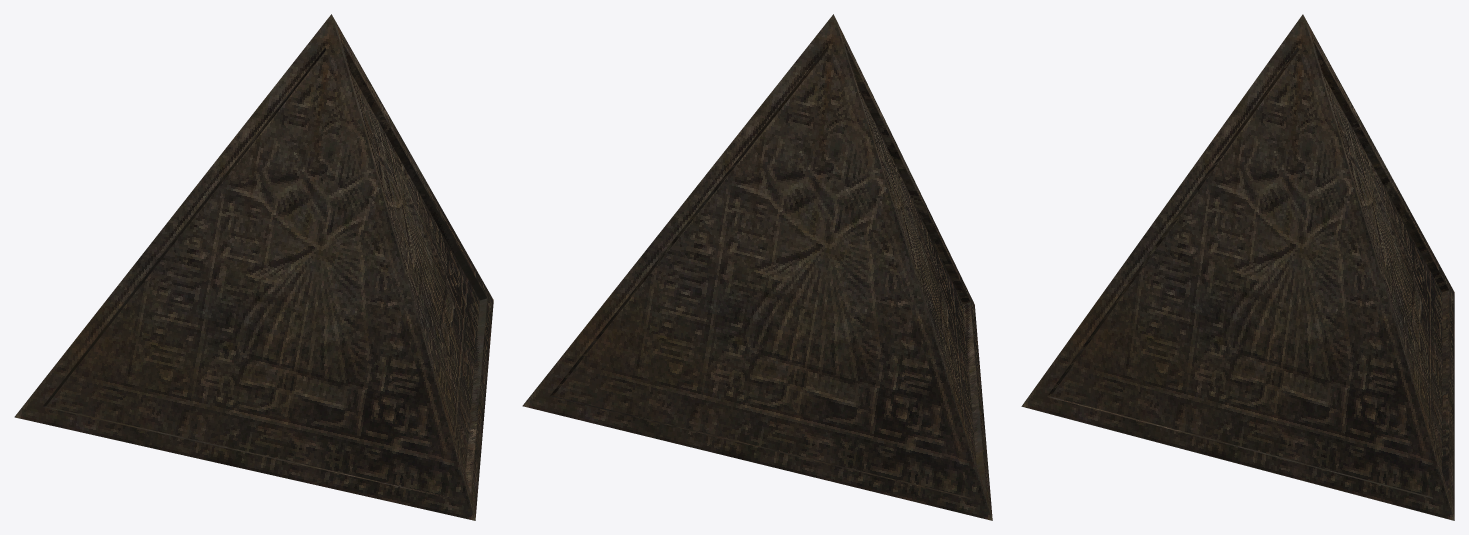
Rendered from ancient_artifact_mx_1.glb.
3 renders of one model, left to right at view 1: azimuth 30°, elevation 25°; view 2: azimuth 150°, elevation 25°; view 3: azimuth 270°, elevation 25°, orthographic. The views are drawn at different scales.
Visible parts, largest first — view 1: ancient_artifact_mx_1; view 2: ancient_artifact_mx_1; view 3: ancient_artifact_mx_1.
Part boxes in pixels (left/top/right/bottom): ancient_artifact_mx_1: left=14, top=14, right=493, bottom=520; ancient_artifact_mx_1: left=522, top=14, right=992, bottom=520; ancient_artifact_mx_1: left=1021, top=14, right=1454, bottom=520.
Bounding box in the file's own units: 0.5 × 0.4 × 0.4.
Materials: 1 (1 with a texture image).
